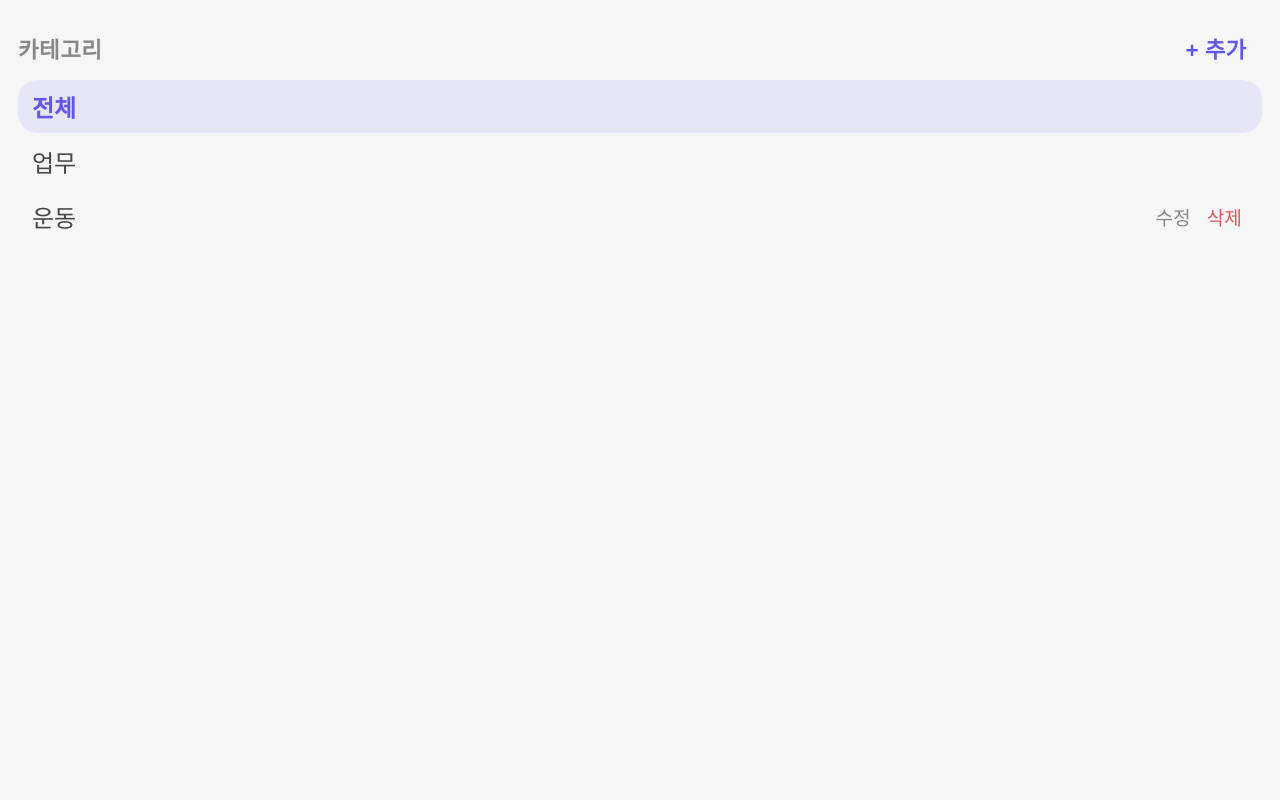
Test case: CategoryList › 수정 버튼 클릭 시 카테고리 수정 모달이 열린다
Click the button with aria-label "운동 수정" at (1173,216), box [1149,200,1197,232]
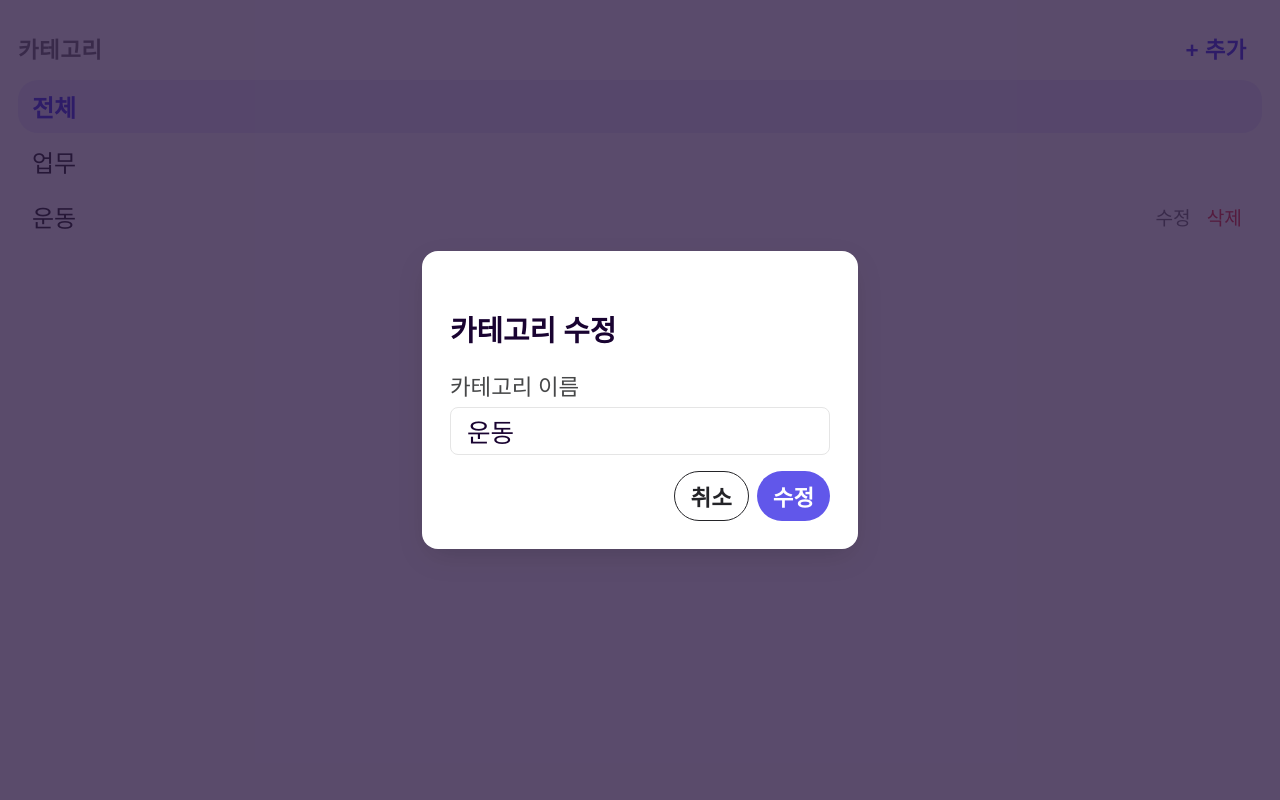
Expected: the dialog is shown
Expected: the heading "카테고리 수정" is shown, [450,315,616,347]
